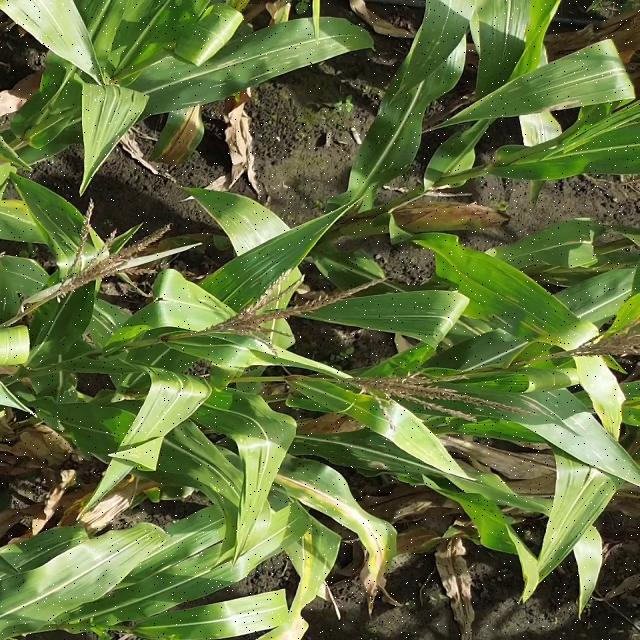gray-leaf-spot: (148, 28, 331, 126), (200, 195, 320, 295), (60, 286, 156, 368)
southern-leaf-blight: (351, 30, 463, 181)
